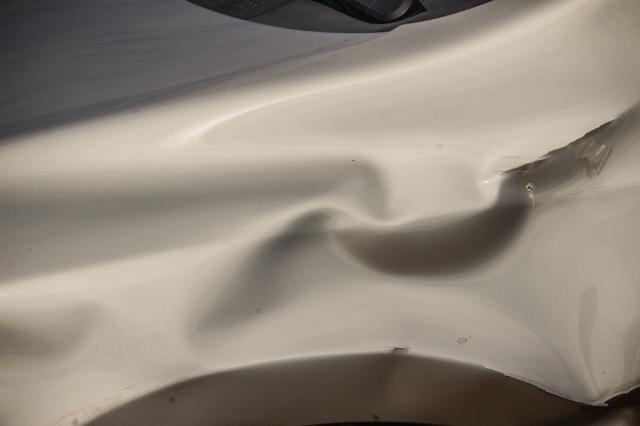dent: (0, 53, 640, 426)
